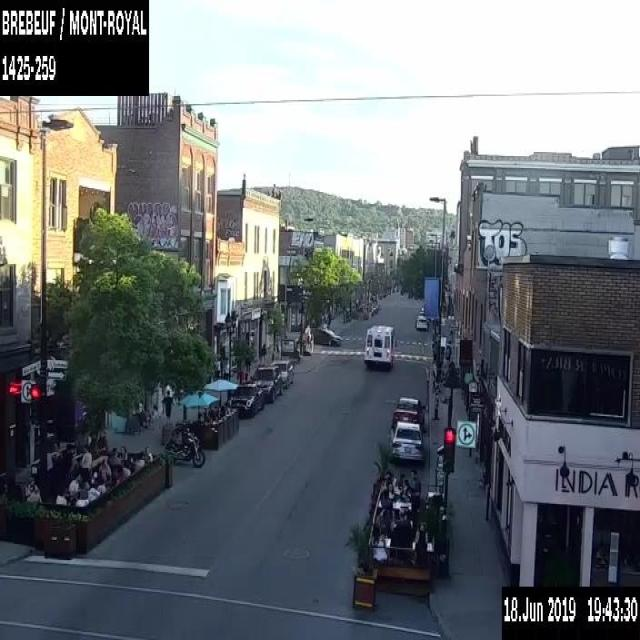pedestrian: (160, 386, 173, 426), (414, 530, 426, 564), (409, 469, 420, 501), (80, 445, 92, 470), (258, 342, 266, 370), (381, 482, 394, 499), (212, 356, 220, 383), (222, 355, 230, 382), (108, 446, 120, 464), (415, 523, 427, 541), (68, 473, 79, 489), (142, 446, 152, 462), (55, 490, 66, 504), (116, 445, 127, 459), (397, 472, 406, 486)
vehicle: (164, 426, 204, 466), (246, 364, 281, 404), (362, 323, 392, 368), (390, 421, 422, 461), (392, 396, 424, 432), (230, 383, 263, 417), (268, 359, 293, 388), (312, 326, 341, 346), (415, 315, 429, 329)
